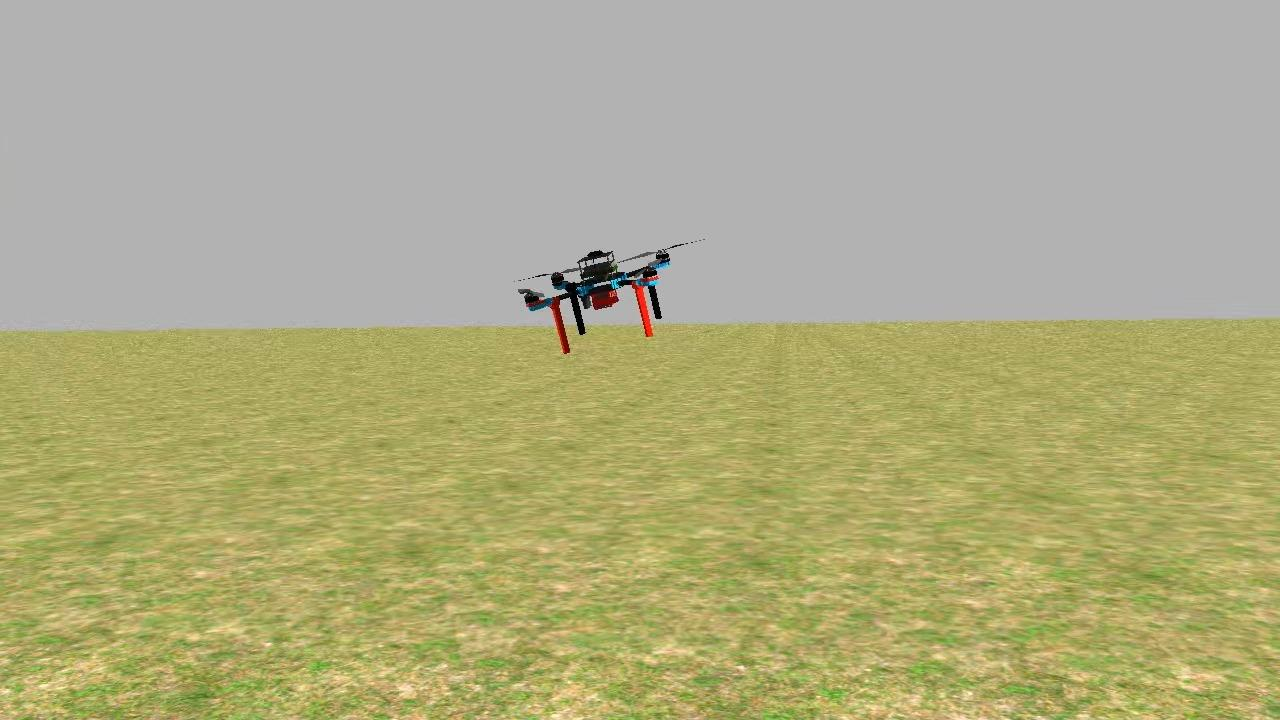UAV: (514, 237, 685, 355)
